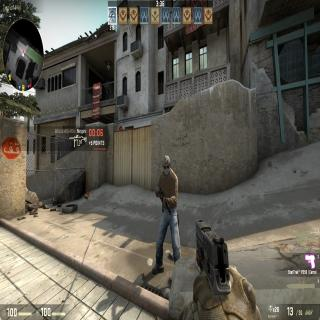T-Body: (155, 153, 181, 272)
T-Head: (160, 154, 172, 177)
